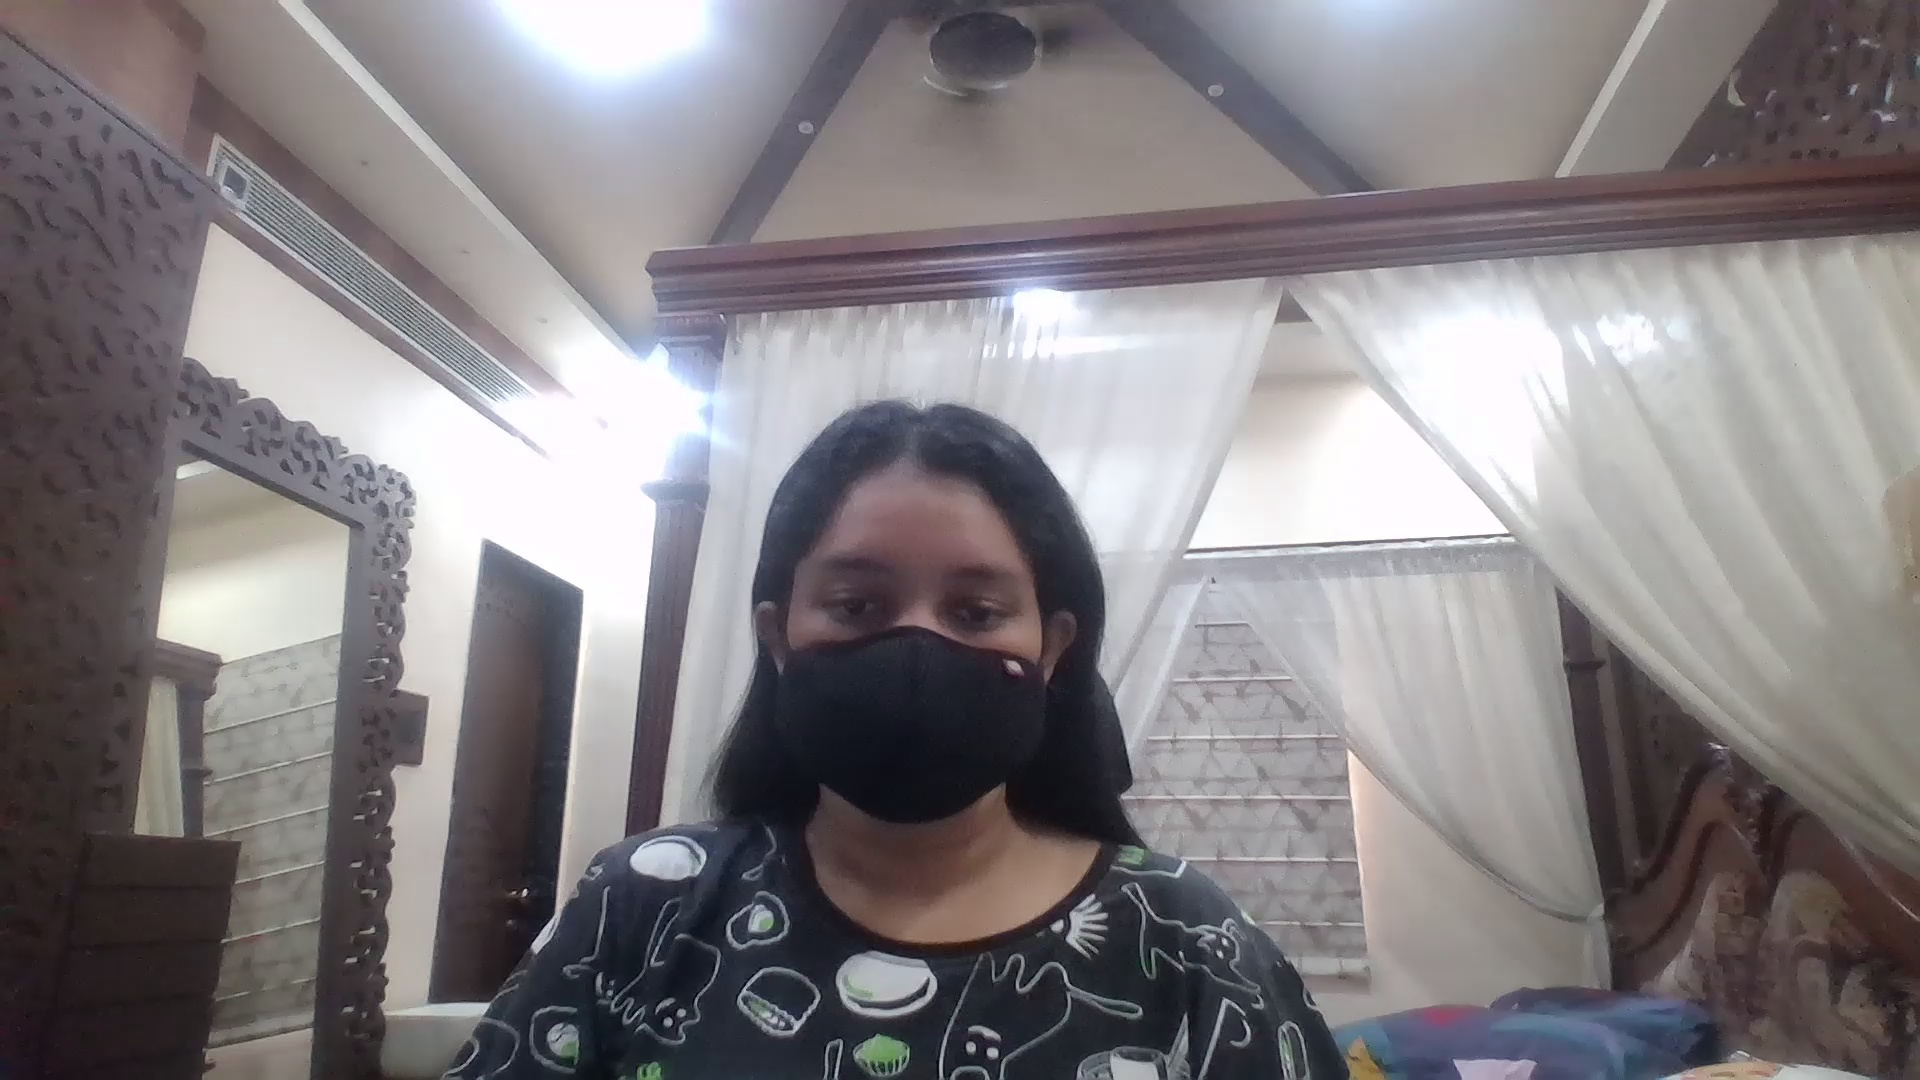Mask: (765, 630, 1042, 830)
